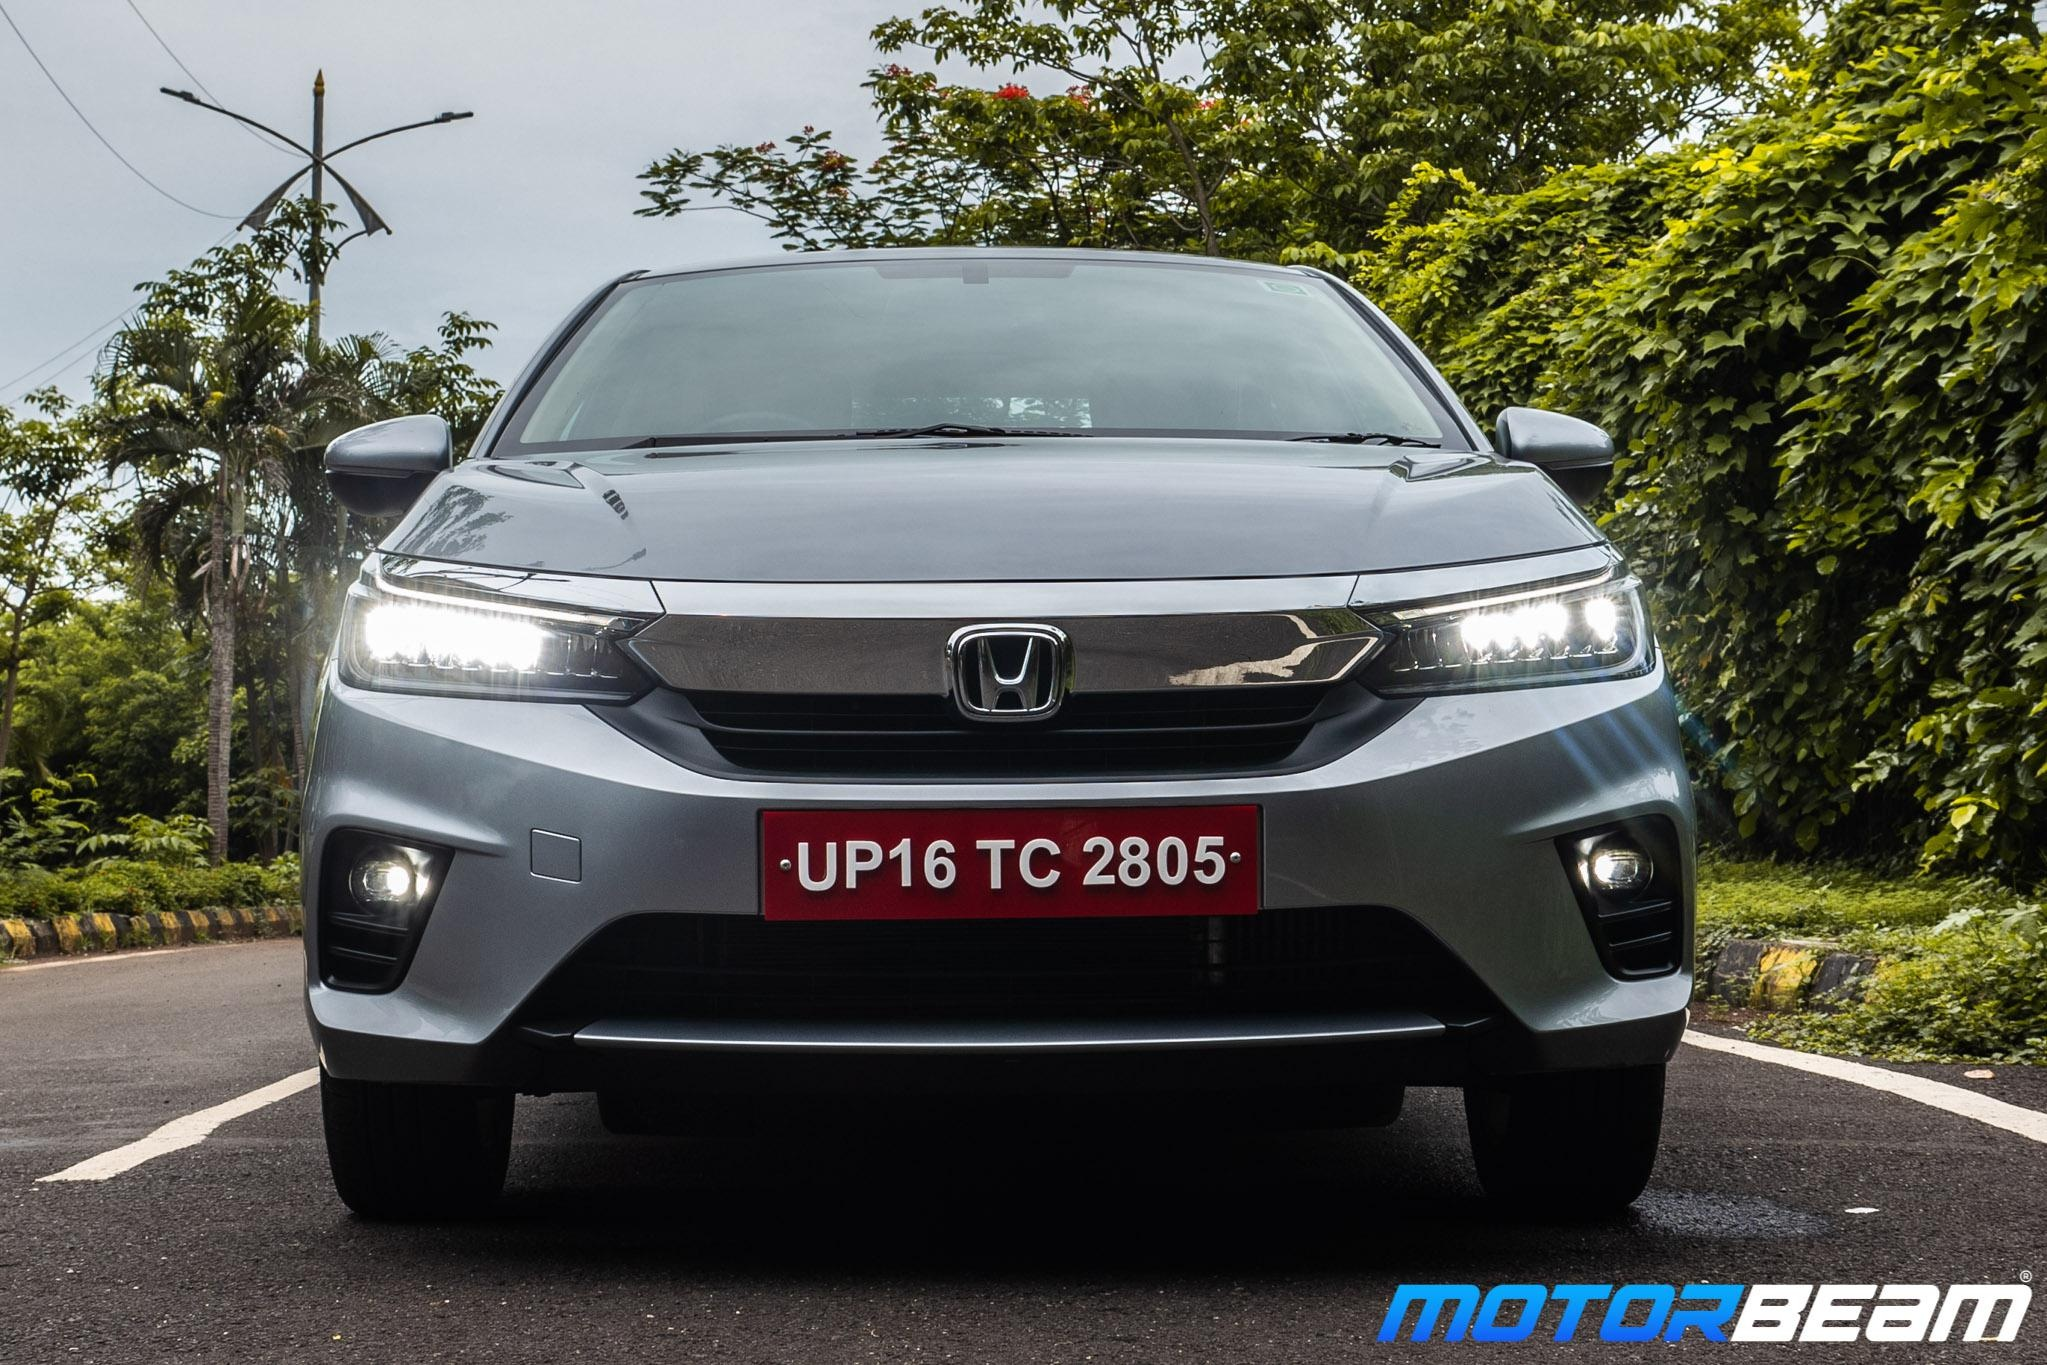number_plate: (765, 821, 1258, 905)
